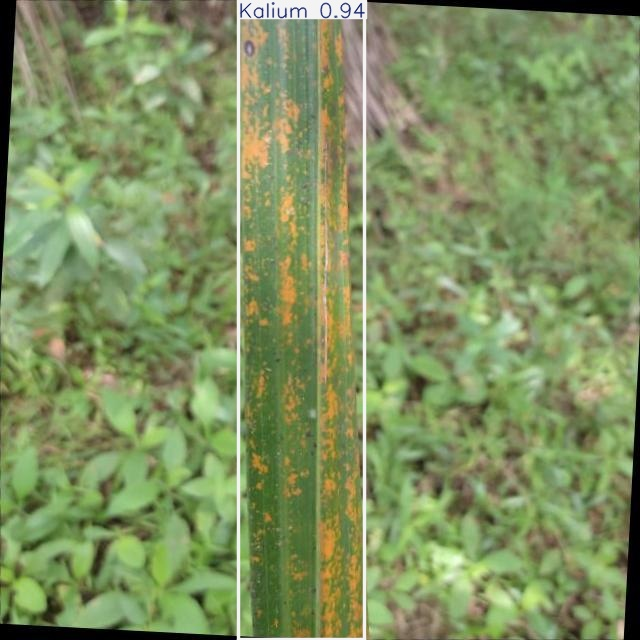Kalium: (238, 0, 365, 639)
